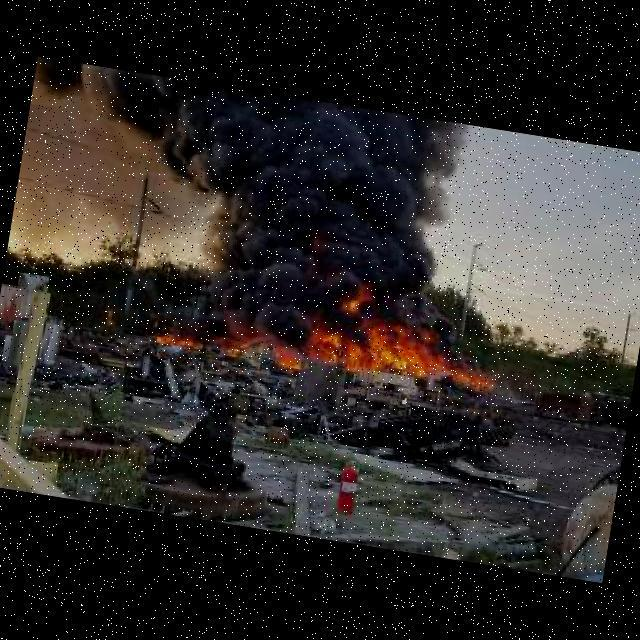Fire: (134, 276, 515, 406), (330, 276, 379, 318), (105, 309, 117, 322)
Smoke: (9, 55, 493, 324)
